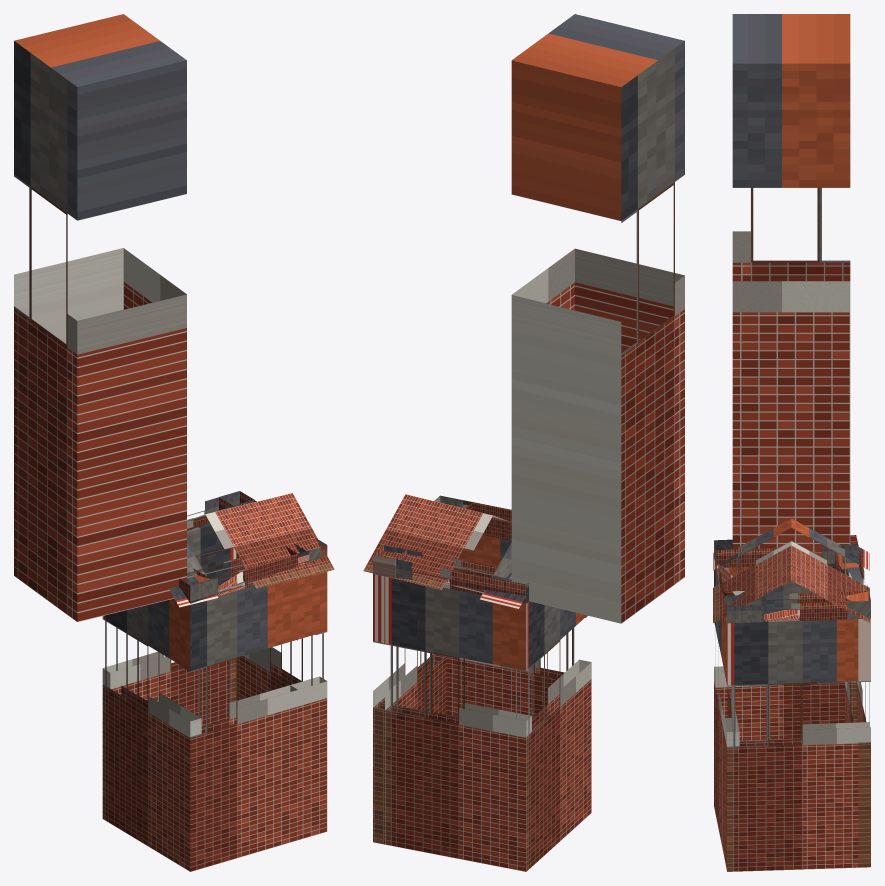
The picture shows the model from 3 angles, left to right: view 1: azimuth 30°, elevation 25°; view 2: azimuth 150°, elevation 25°; view 3: azimuth 270°, elevation 25°; orthographic projection. The views are drawn at different scales.
Visible parts, largest first — view 1: 1132023210__chimney_0_xb, 1132023210__wall_1_xb, 1132023210__wall_0_xb, 1132023210__wall_4_xb, 1132023210_roof_-1_xb, 1132023210__wall_2_xb, 1132023210__wall_3_xb, 1132023210__cornice_1, 1132023210__cornice_4; view 2: 1132023210__chimney_0_xb, 1132023210__wall_4_xb, 1132023210__wall_0_xb, 1132023210_roof_1_xb, 1132023210__wall_3_xb, 1132023210__wall_1_xb, 1132023210__cornice_4, 1132023210__wall_2_xb, 1132023210__cornice_1, 1132023210__cornice_3; view 3: 1132023210__chimney_0_xb, 1132023210__wall_3_xb, 1132023210__wall_0_xb, 1132023210_roof_-1_xb, 1132023210_roof_1_xb, 1132023210__wall_4_xb, 1132023210__cornice_3, 1132023210__wall_1_xb, 1132023210__cornice_0, 1132023210__wall_2_xb, 1132023210__cornice_4, 1132023210__cornice_1.
Boxes of the visible parts, x1,y1,x2,y2 form: 1132023210__chimney_0_xb: [14, 14, 186, 621]; 1132023210__wall_1_xb: [182, 578, 297, 871]; 1132023210__wall_0_xb: [102, 598, 201, 871]; 1132023210__wall_4_xb: [102, 522, 236, 726]; 1132023210_roof_-1_xb: [169, 493, 334, 607]; 1132023210__wall_2_xb: [290, 571, 327, 840]; 1132023210__wall_3_xb: [236, 552, 327, 700]; 1132023210__cornice_1: [187, 546, 297, 603]; 1132023210__cornice_4: [187, 491, 253, 531]; 1132023210__chimney_0_xb: [511, 14, 684, 623]; 1132023210__wall_4_xb: [378, 576, 531, 871]; 1132023210__wall_0_xb: [514, 601, 591, 871]; 1132023210_roof_1_xb: [363, 494, 529, 608]; 1132023210__wall_3_xb: [373, 574, 446, 844]; 1132023210__wall_1_xb: [467, 535, 587, 716]; 1132023210__cornice_4: [375, 545, 526, 603]; 1132023210__wall_2_xb: [434, 549, 466, 716]; 1132023210__cornice_1: [465, 502, 511, 540]; 1132023210__cornice_3: [373, 495, 462, 577]; 1132023210__chimney_0_xb: [732, 14, 850, 557]; 1132023210__wall_3_xb: [726, 616, 870, 871]; 1132023210__wall_0_xb: [714, 563, 857, 740]; 1132023210_roof_-1_xb: [713, 519, 791, 622]; 1132023210_roof_1_xb: [791, 518, 869, 622]; 1132023210__wall_4_xb: [844, 563, 870, 867]; 1132023210__cornice_3: [725, 591, 870, 623]; 1132023210__wall_1_xb: [714, 567, 736, 856]; 1132023210__cornice_0: [716, 545, 858, 567]; 1132023210__wall_2_xb: [724, 616, 739, 869]; 1132023210__cornice_4: [835, 535, 870, 619]; 1132023210__cornice_1: [714, 539, 744, 601].
Bounding box in the file's own units: 0.3381 × 1.05 × 0.2013.
1 material, 1 textured.
